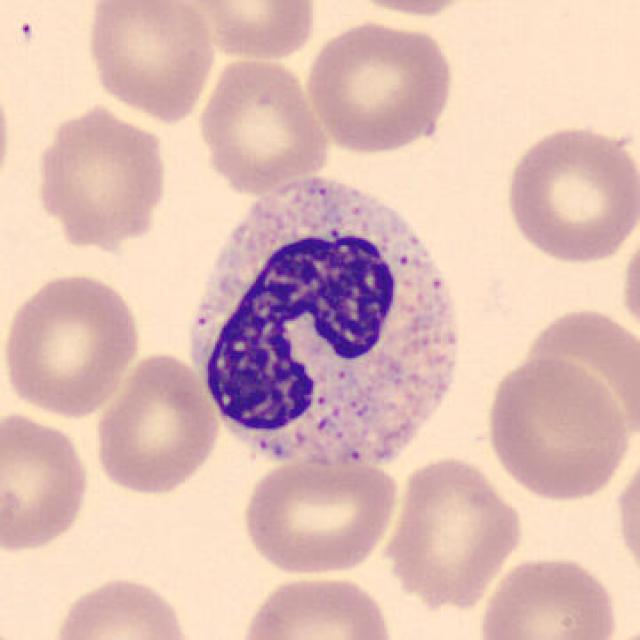Neutrophil: (178, 164, 474, 485)
RBC: (379, 453, 526, 612), (480, 352, 631, 502), (0, 268, 146, 420), (302, 18, 457, 157), (31, 100, 172, 248), (238, 452, 402, 578), (502, 120, 638, 268), (91, 349, 222, 497), (194, 55, 332, 194), (520, 303, 640, 460), (81, 0, 218, 123), (0, 407, 92, 555), (475, 552, 622, 640), (235, 569, 400, 640), (48, 573, 197, 640), (174, 0, 322, 62), (610, 441, 640, 587), (618, 215, 640, 342), (334, 0, 480, 18), (0, 67, 14, 206), (594, 617, 640, 640)
